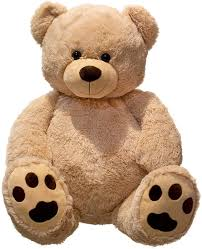teddy: (4, 2, 200, 244)
